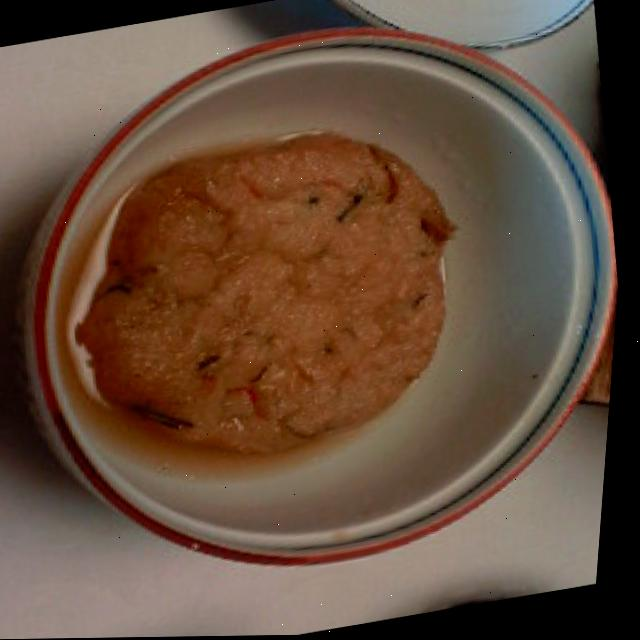熟制海鲜: (45, 27, 574, 591)
